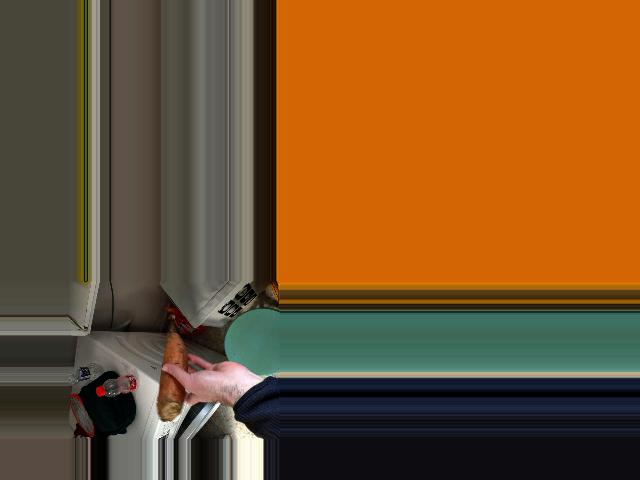sweet_potato: (165, 333, 186, 408)
